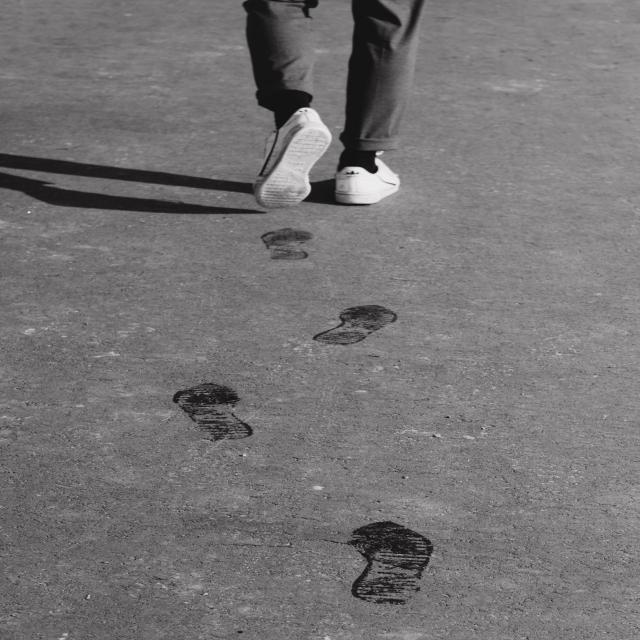human_foot_print: (129, 220, 536, 637)
